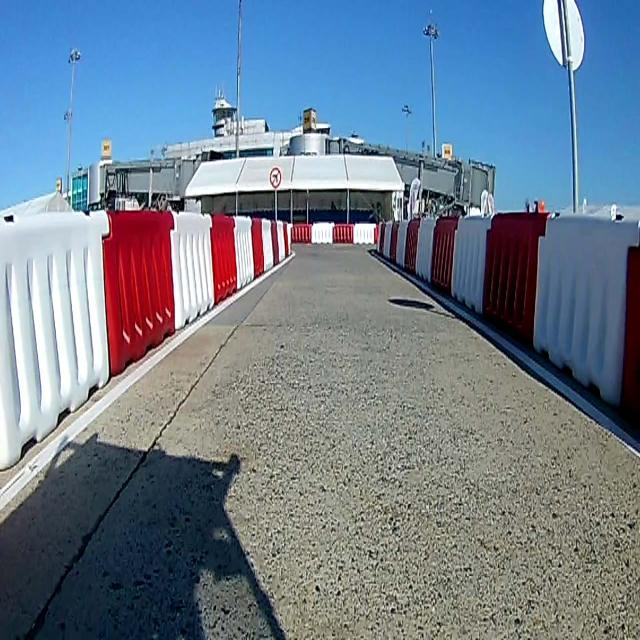soladonulmez: (268, 165, 282, 188)
